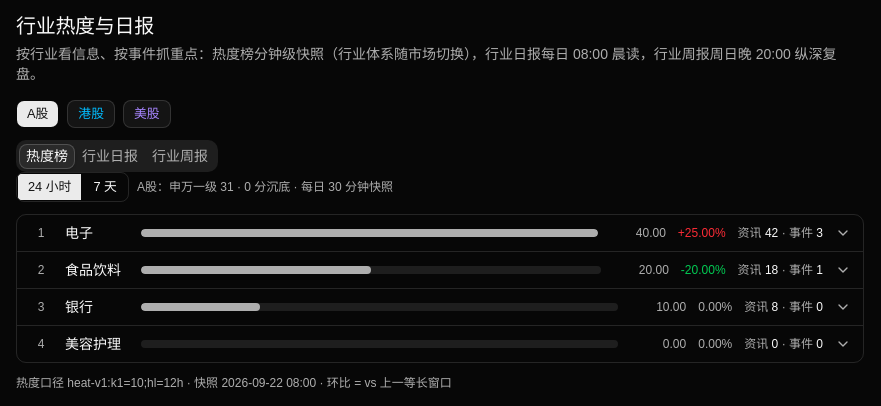
Test: IndustryHeat 行业热度页（T257）· 三市场切换 › M29 切美股空榜：如实空态「该市场暂无热度数据」+ 原因标注（拍板三不隐藏）
This screenshot has width=881, height=406.
Expected: the button with test id "heat-row-电子" is shown, [17,215,863,251]
Click the tab with test id "market-tab-US" at (147,114), box [123,100,170,128]
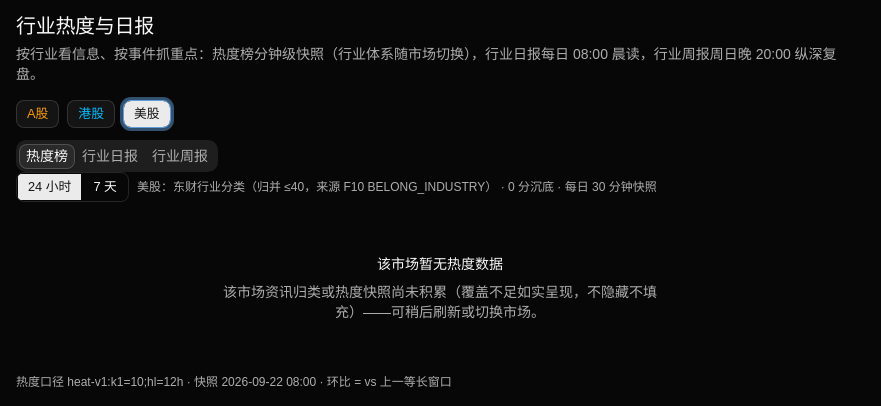
Now the element with test id "heat-empty" shows "该市场暂无热度数据", box [377,256,503,272]
Now the element with test id "heat-empty" shows "尚未积累", box [223,284,657,320]
